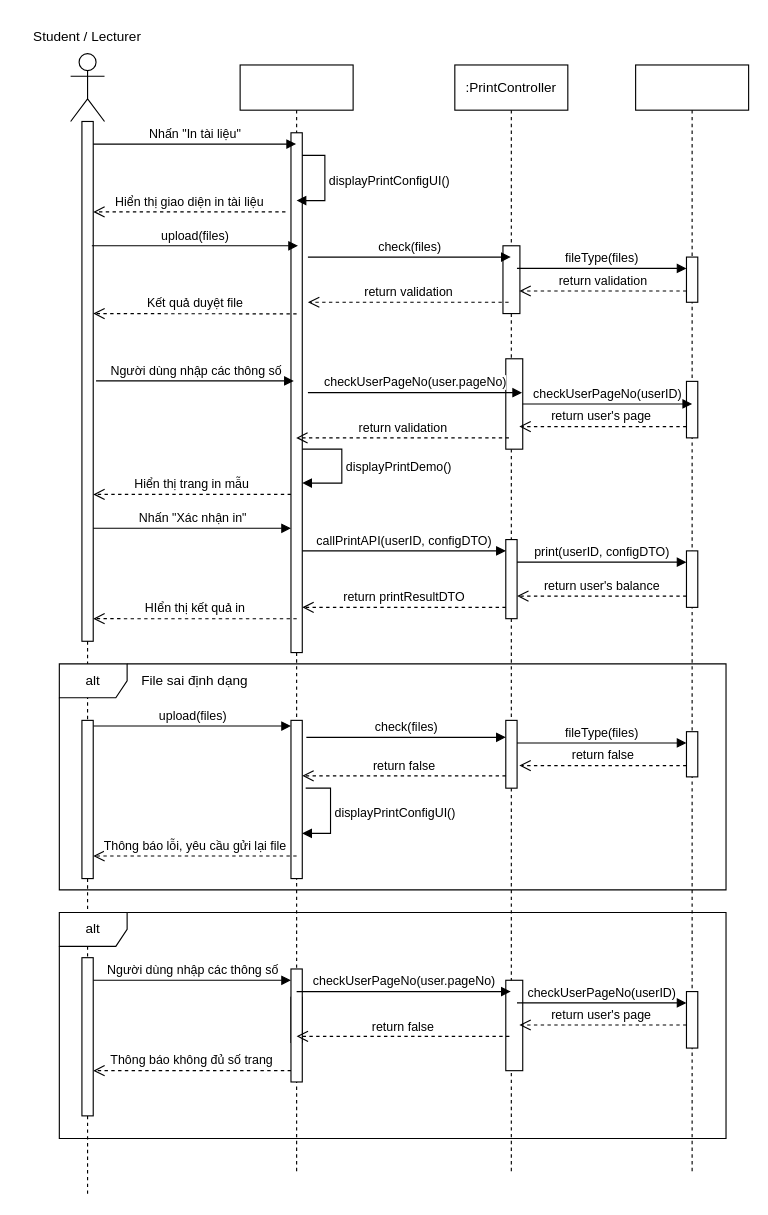
This 768x1215 diagram has some shape labels left out. The centre of each missing label's shape, as x and y in pixels:
:PrintServiceView: pixel 296 618
Database (Print Model): pixel 691 618
